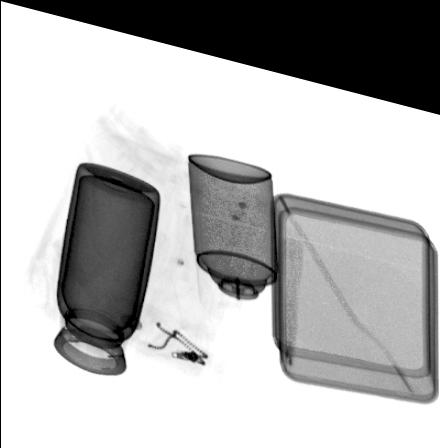Sprayer: (187, 143, 282, 323)
